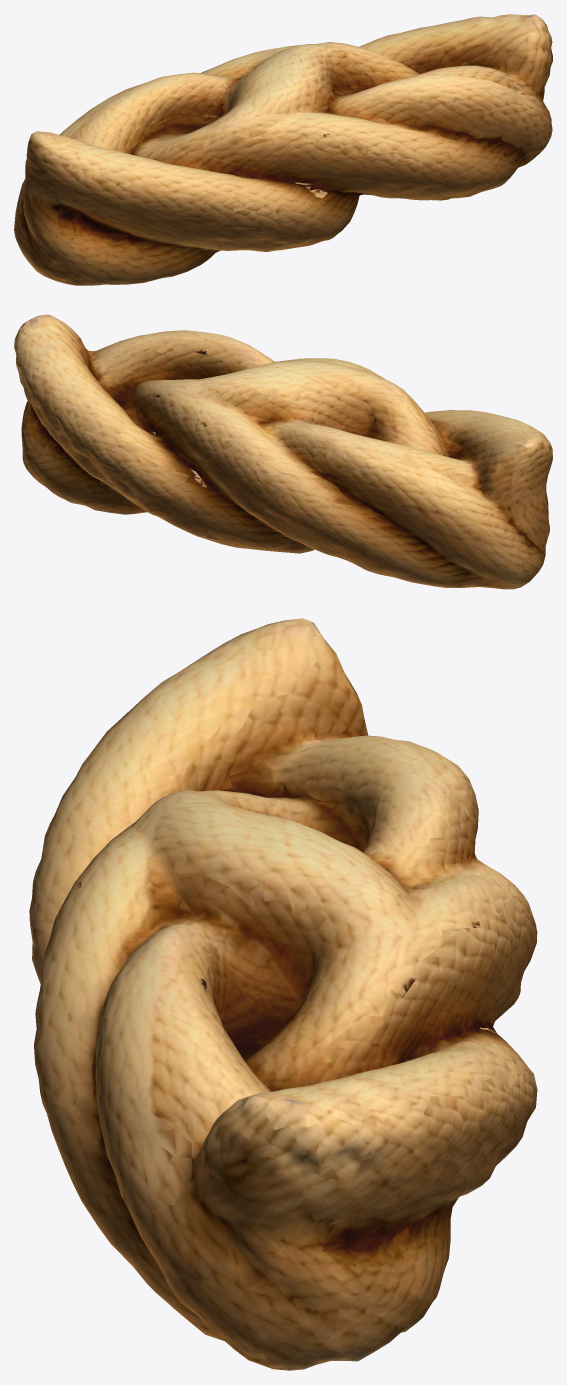
The model's file is 068154d1-a877-7f55-8000-594cafc23ee8-model.glb.
3 renders of one model, top to bottom at view 1: azimuth 30°, elevation 25°; view 2: azimuth 150°, elevation 25°; view 3: azimuth 270°, elevation 25°, orthographic. The views are drawn at different scales.
Parts seen in each view (by area): view 1: model; view 2: model; view 3: model.
Boxes of the visible parts, x1,y1,x2,y2 form: model: [14, 14, 552, 285]; model: [14, 314, 552, 589]; model: [29, 618, 537, 1370].
Size of the model in its own units: 1.34 by 0.4132 by 0.5686.
Materials: 1 (1 with a texture image).
